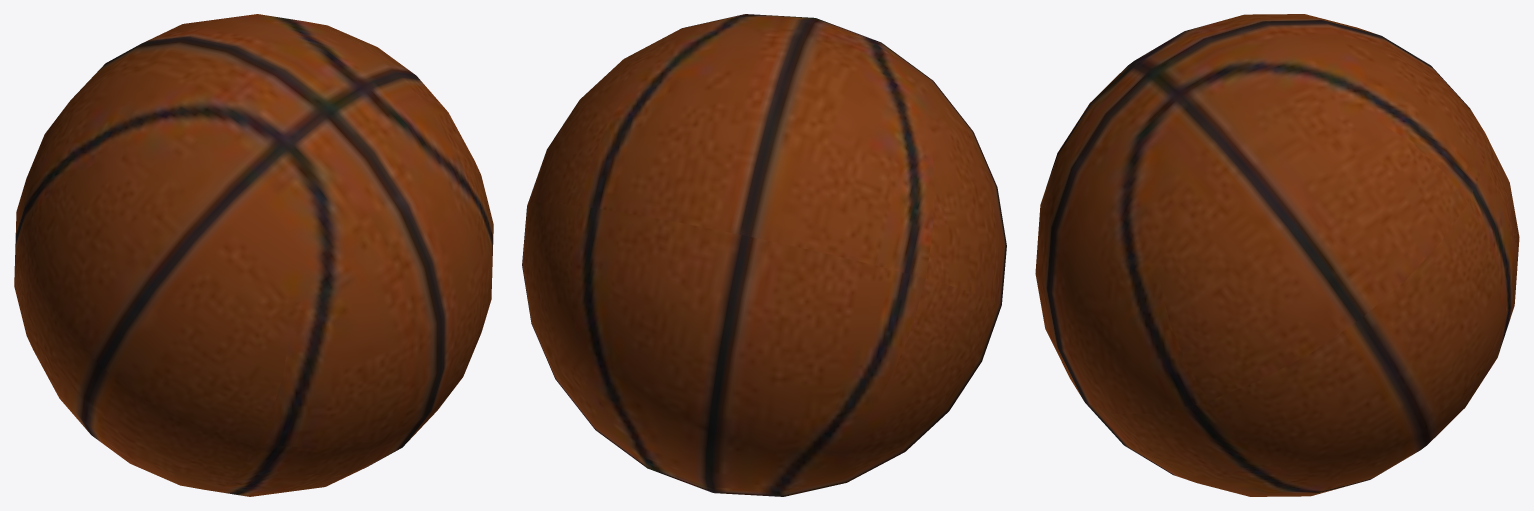
The picture shows the model from 3 angles, left to right: view 1: azimuth 30°, elevation 25°; view 2: azimuth 150°, elevation 25°; view 3: azimuth 270°, elevation 25°; orthographic projection.
Bounding box in the file's own units: 5.24 × 5.25 × 5.25.
1 material, 1 textured.
